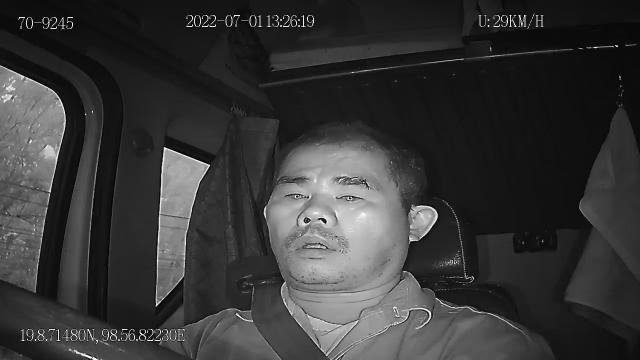SafeDriving: (328, 180, 372, 208), (276, 180, 314, 207)
Seatbelt: (250, 280, 338, 360)
